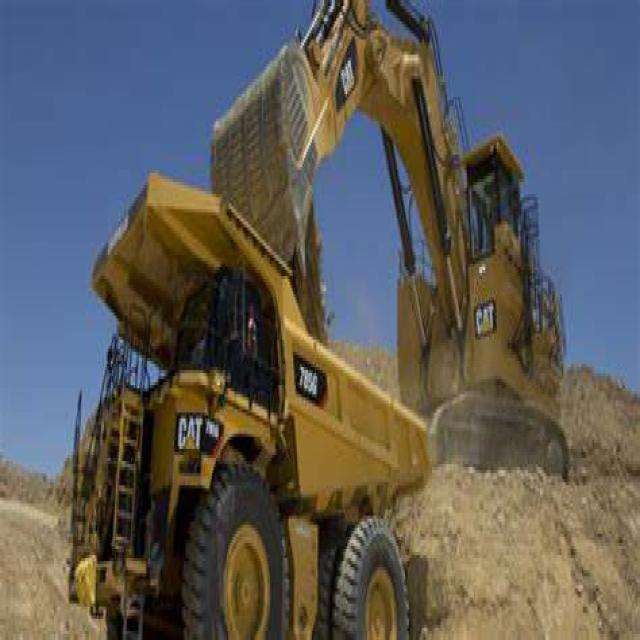dump_truck: (57, 161, 466, 637)
